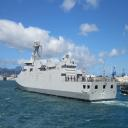Fragata: (13, 38, 120, 104)
